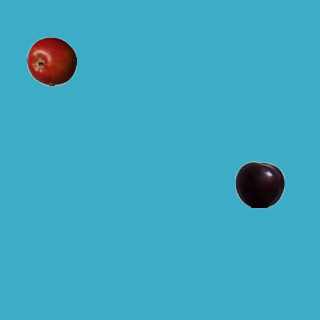Apple Braeburn: (26, 36, 76, 86)
Cherry Wax Black: (234, 159, 284, 209)
